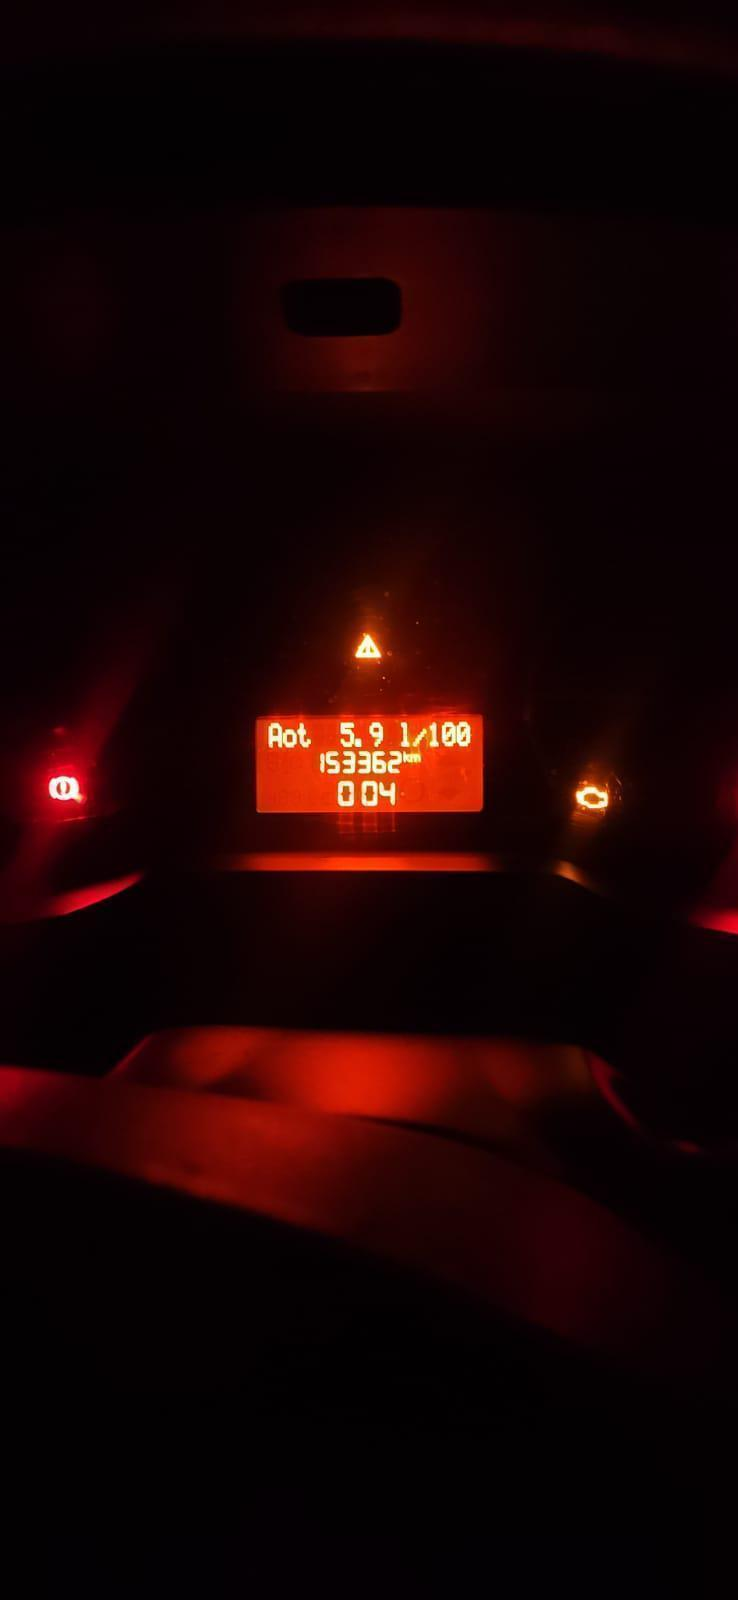,: (354, 736, 363, 748)
0: (335, 779, 356, 807), (360, 778, 379, 807), (455, 718, 473, 747), (442, 719, 455, 747)
1: (430, 719, 442, 752), (318, 750, 326, 776)
2: (388, 749, 402, 776)
3: (341, 749, 355, 774), (357, 748, 370, 774)
4: (379, 780, 397, 805)
5: (338, 719, 355, 748), (325, 749, 340, 776)
6: (371, 749, 387, 774)
9: (368, 720, 385, 748)
X: (296, 720, 312, 750), (266, 720, 282, 750), (399, 718, 411, 747), (282, 727, 297, 749), (411, 726, 427, 747), (410, 752, 422, 763), (403, 750, 409, 763)
odometer: (251, 711, 492, 820)
